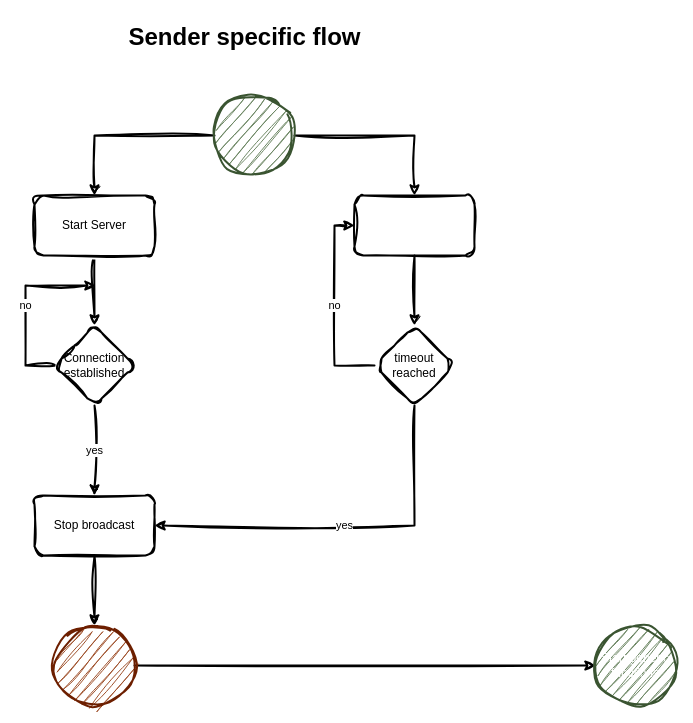
Some shapes in this 693 by 723 pixel diagram are drawn without their labels. Each missing label, with the centre of its shape:
broadcast: the point at 414,225
End sender specific functions: the point at 94,665
Start: the point at 254,135
